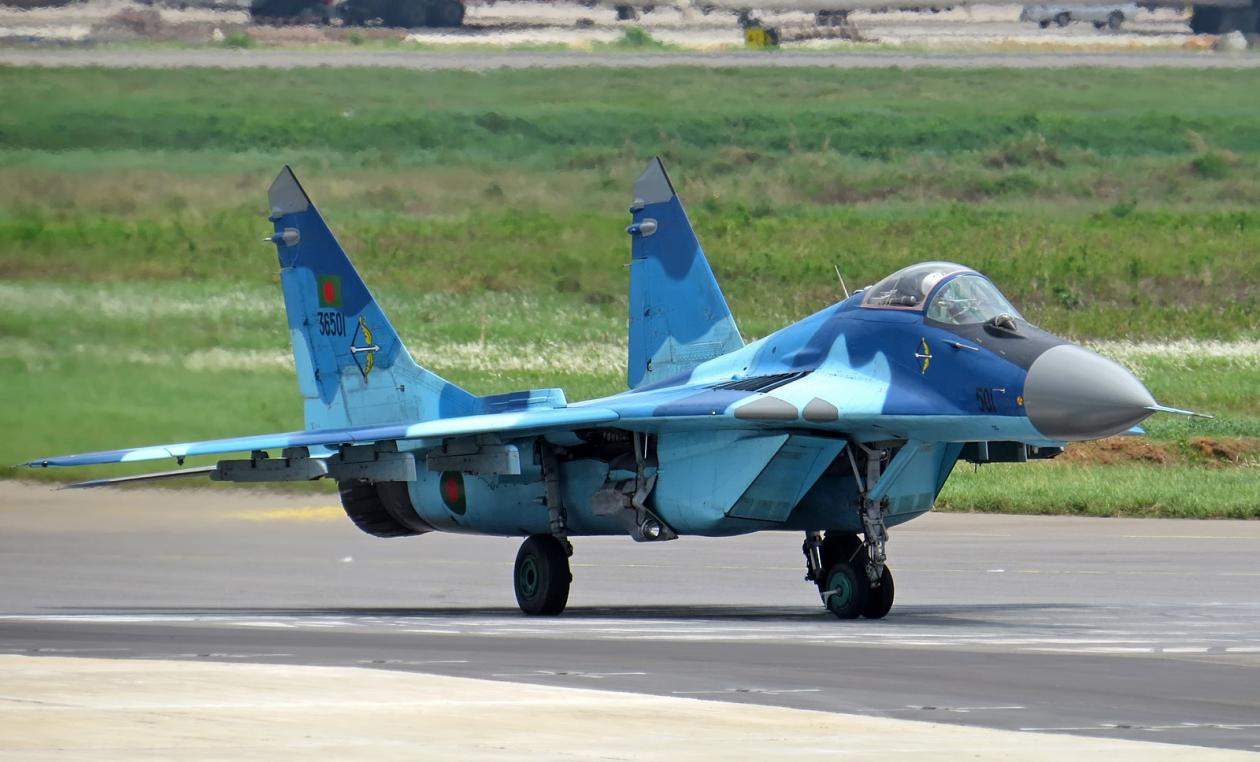Bangladesh: (435, 469, 473, 516), (312, 269, 347, 309)
Mig-29: (91, 93, 1151, 633)
